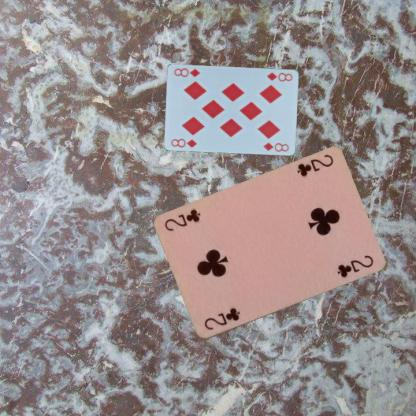2c: (201, 305, 242, 332), (294, 152, 335, 178)
8d: (264, 69, 294, 83), (169, 136, 198, 148)
